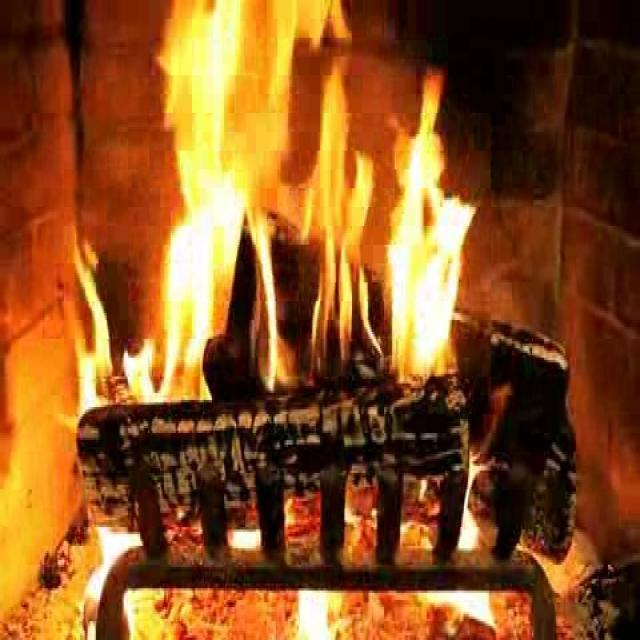Fire: (150, 15, 464, 384)
